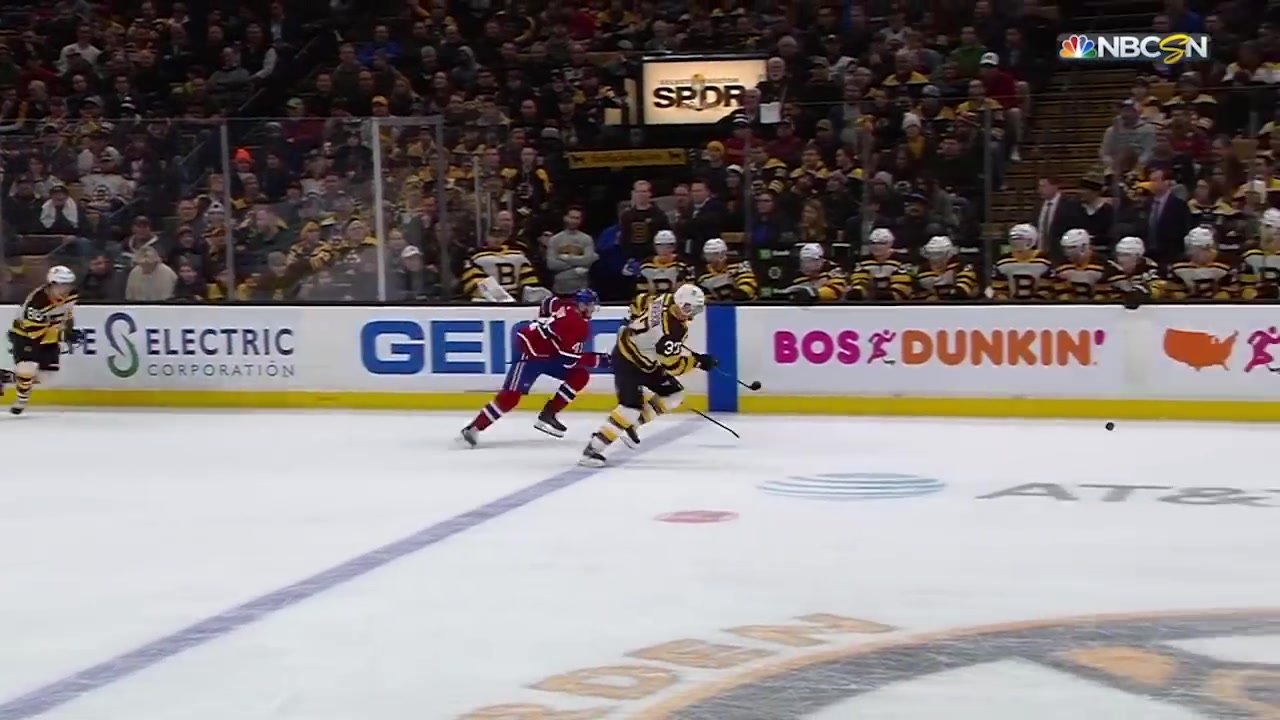geico: (350, 309, 526, 390)
